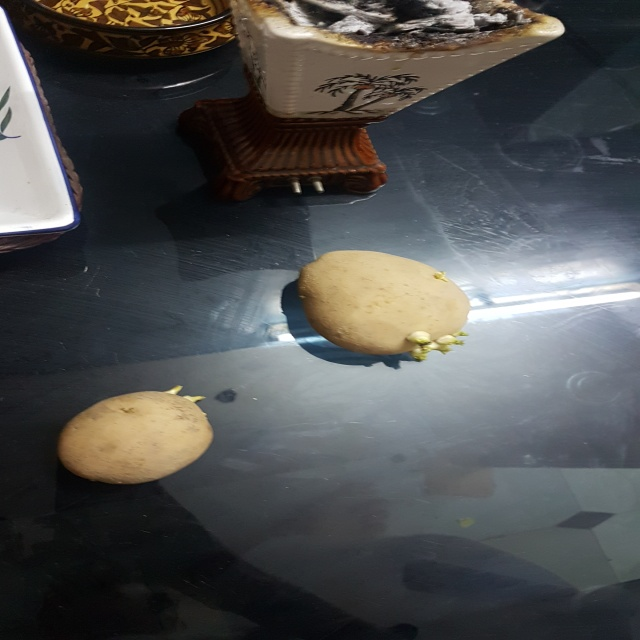potato: (294, 247, 480, 376), (59, 381, 217, 490)
